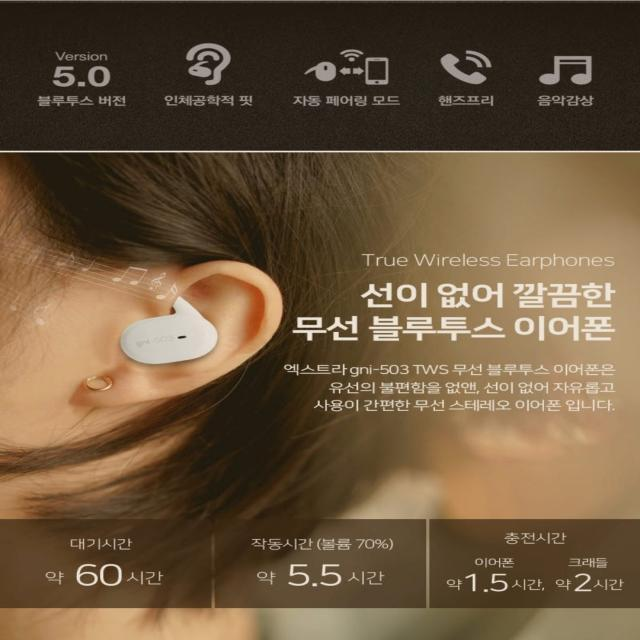earphone: (103, 282, 220, 388)
